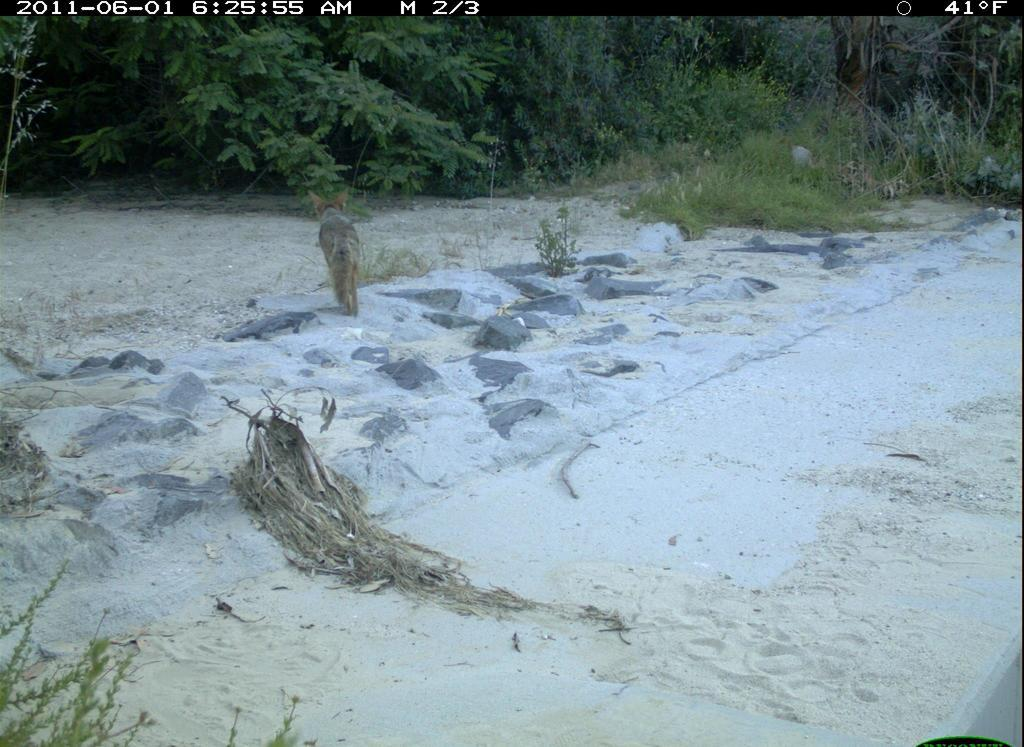coyote: (306, 187, 364, 321)
